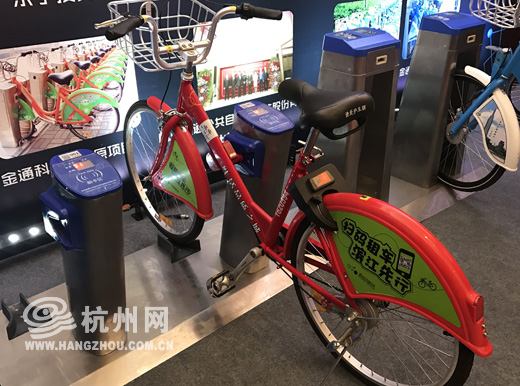MNV: (95, 2, 488, 385)
